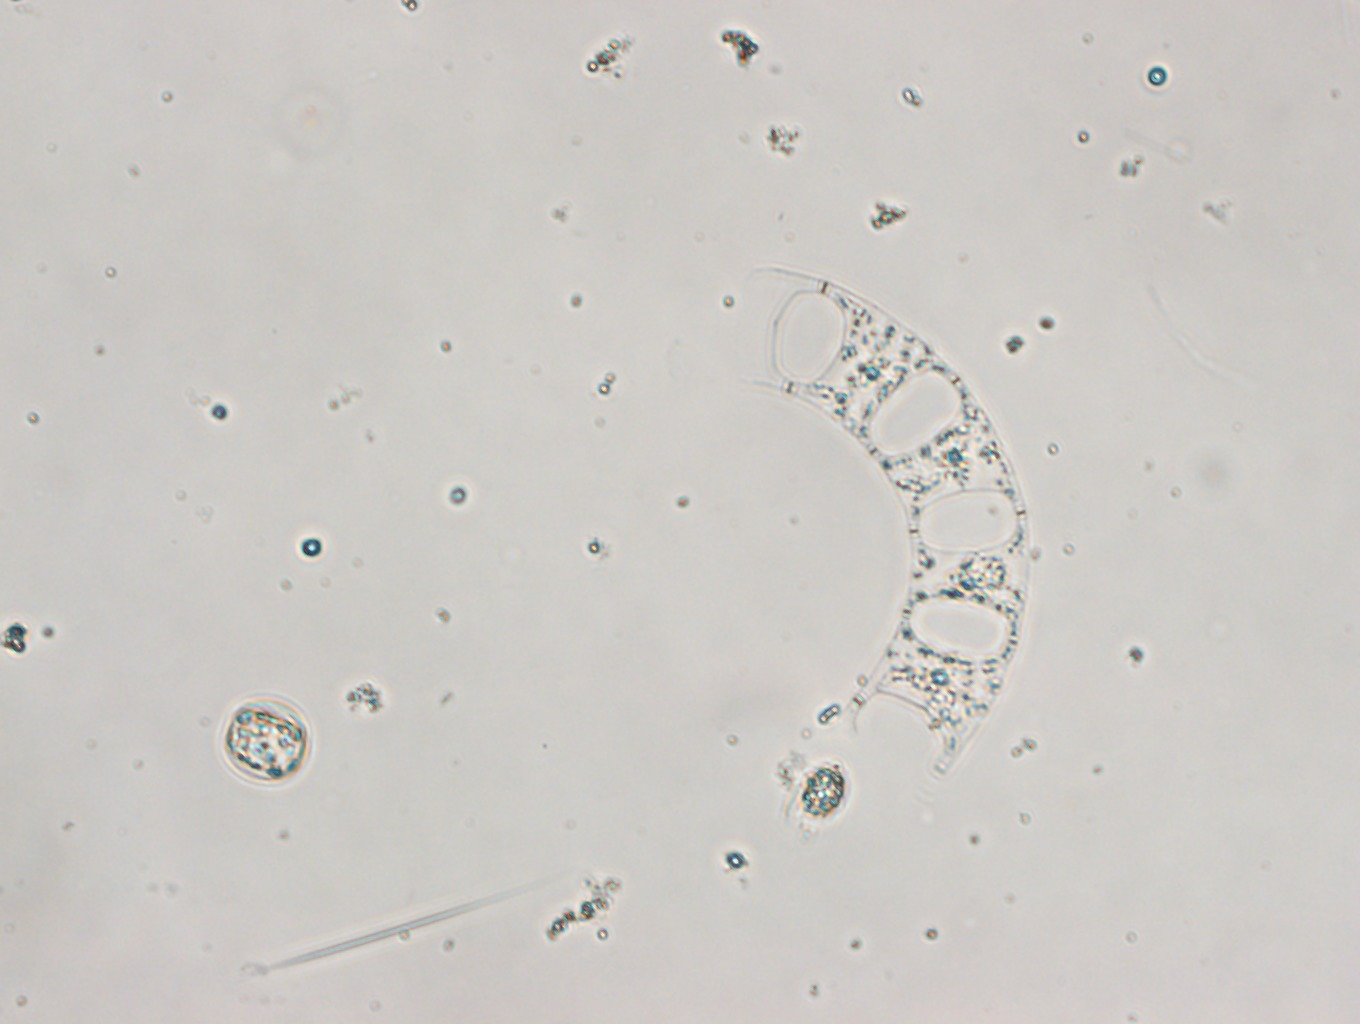eucampia: (725, 264, 1028, 787)
